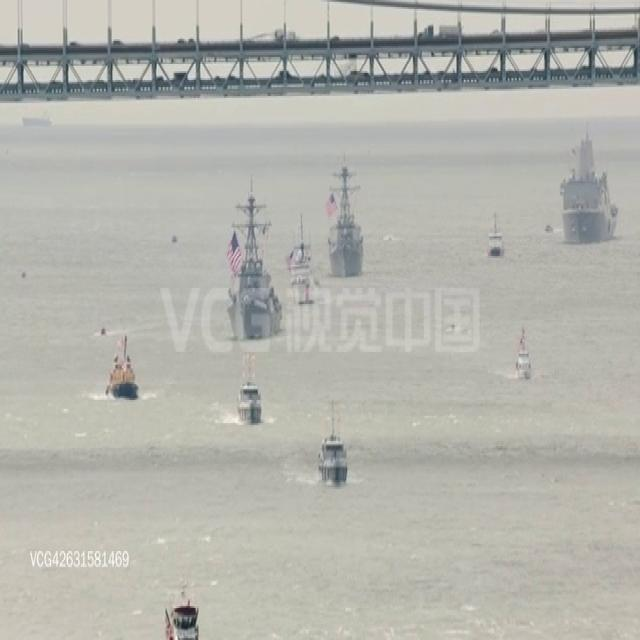houseboat: (318, 398, 350, 488), (104, 332, 138, 400), (163, 583, 199, 640), (233, 353, 262, 423), (516, 329, 536, 383), (488, 213, 504, 257), (100, 323, 110, 342), (544, 221, 556, 235), (169, 232, 179, 246)
navalvessels: (221, 178, 283, 336), (560, 127, 621, 248), (324, 165, 369, 276)
